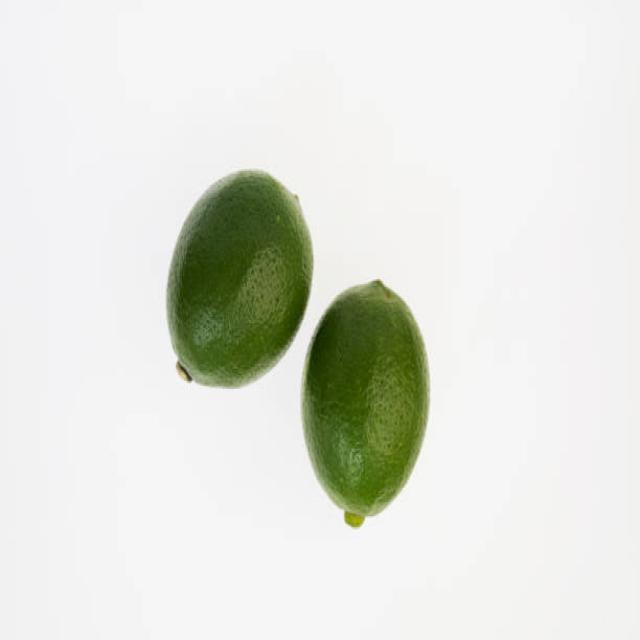Lemon: (166, 164, 314, 389), (304, 276, 432, 526)
